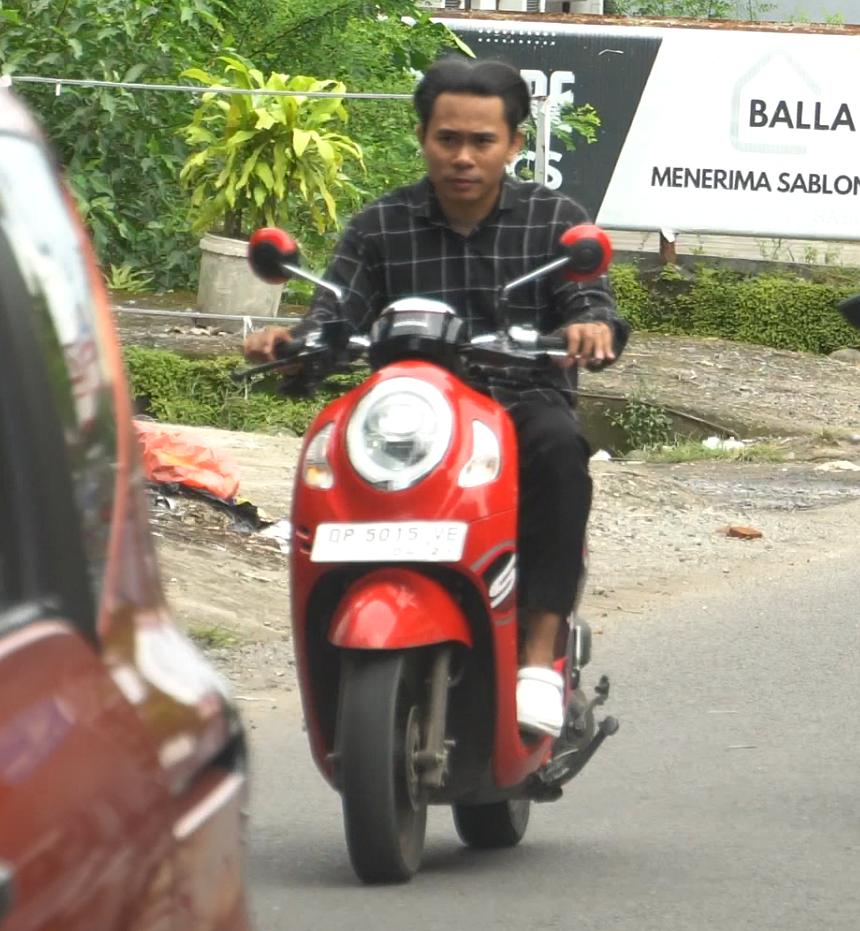number-plate: (309, 522, 469, 564)
